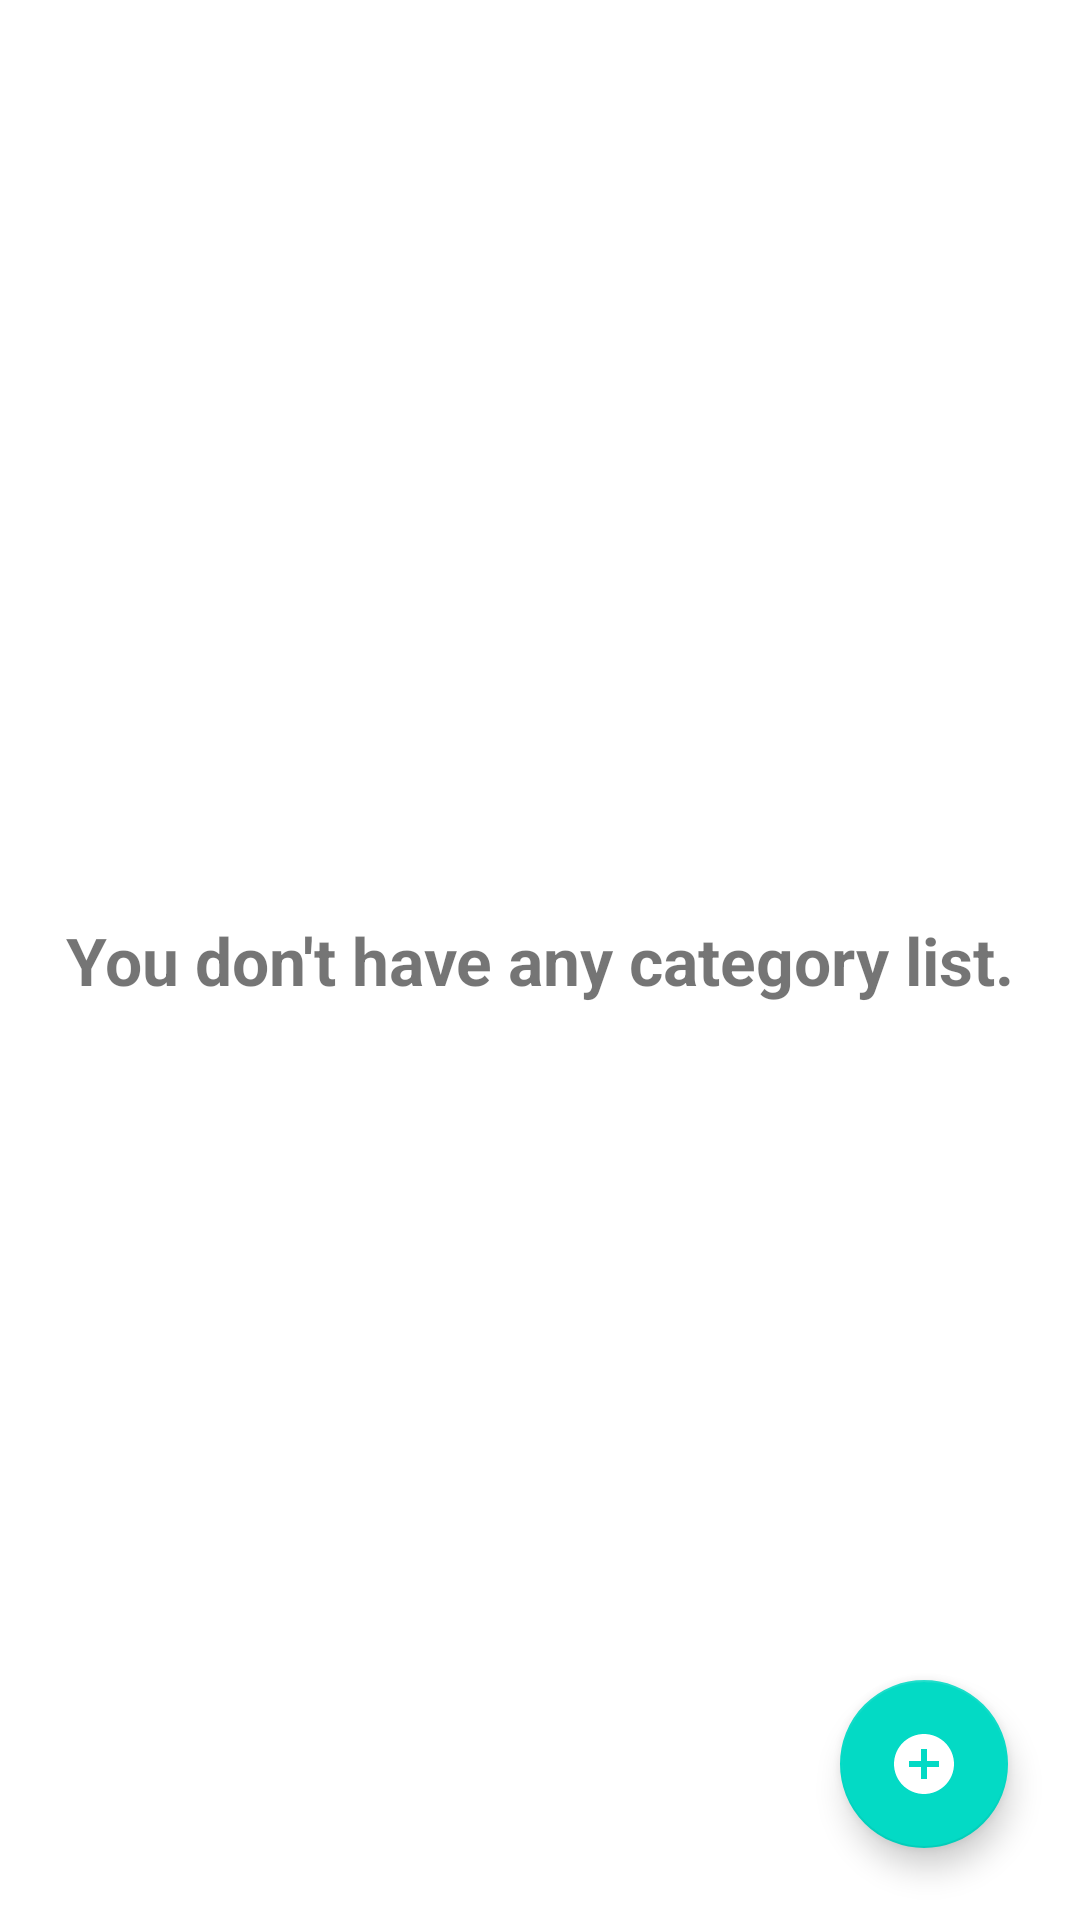

Icons on this 1080 x 1920 Android screen, each with the point to tap as [x,y]:
add circle: [924,1764]
